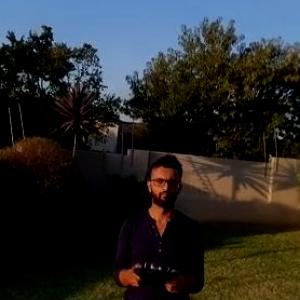follow: (114, 148, 218, 299)
